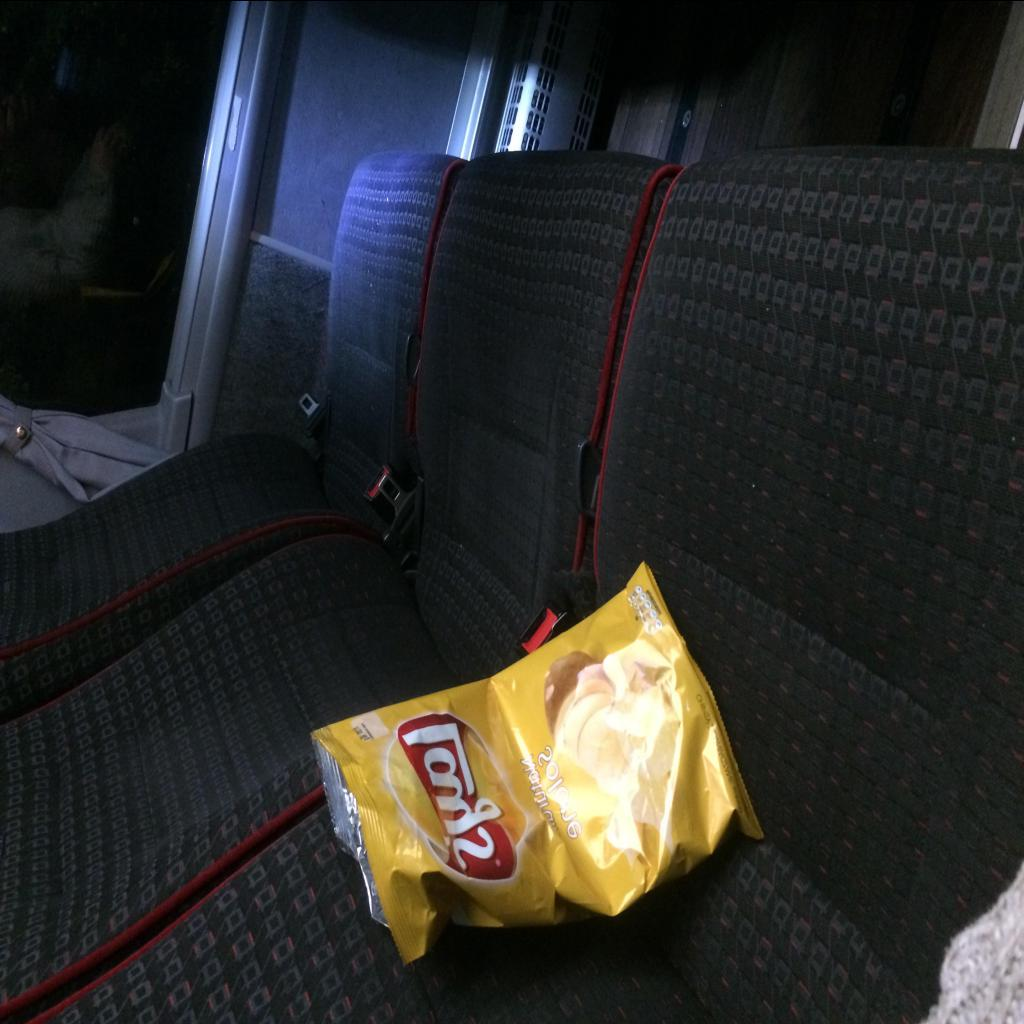Crisp packet: (310, 560, 764, 964)
